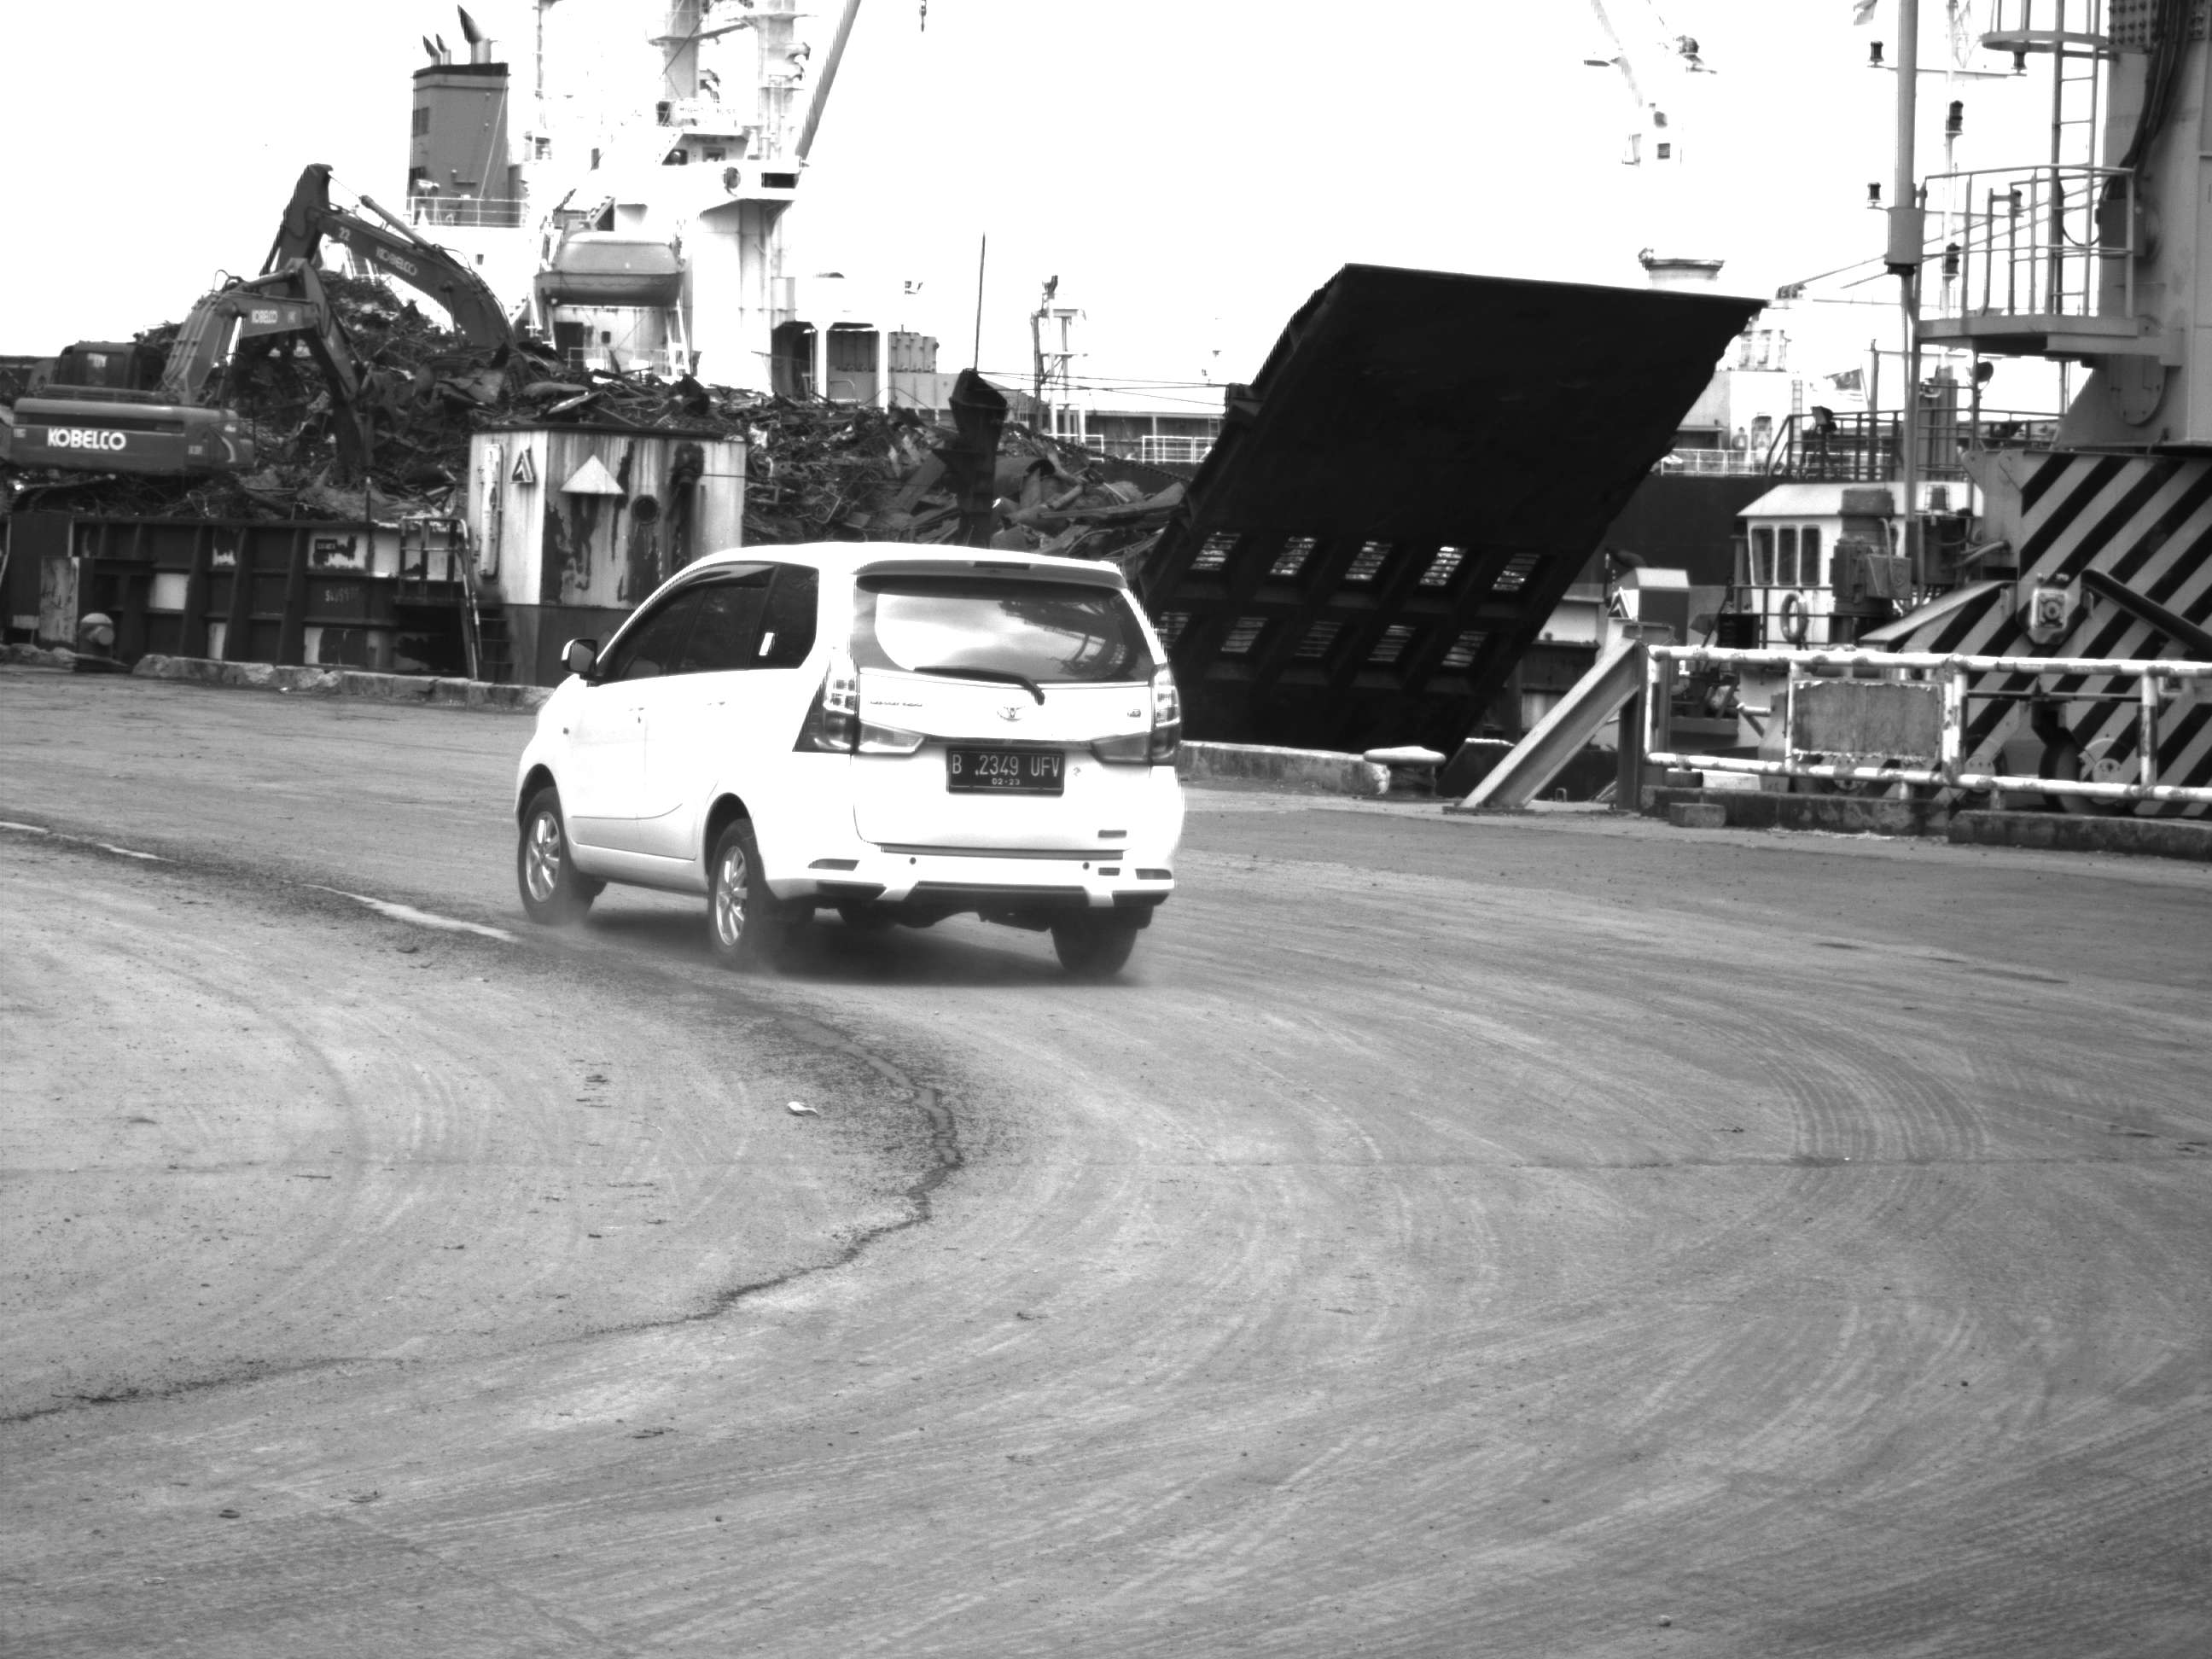car: (488, 523, 1204, 1014)
